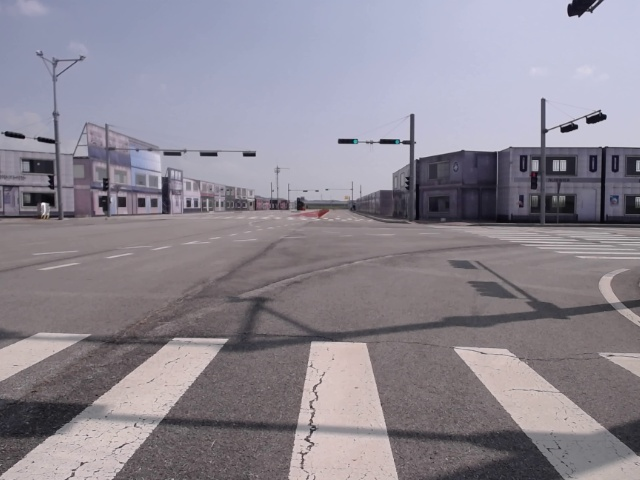straight_green_4: (337, 138, 358, 144), (379, 138, 400, 144)
